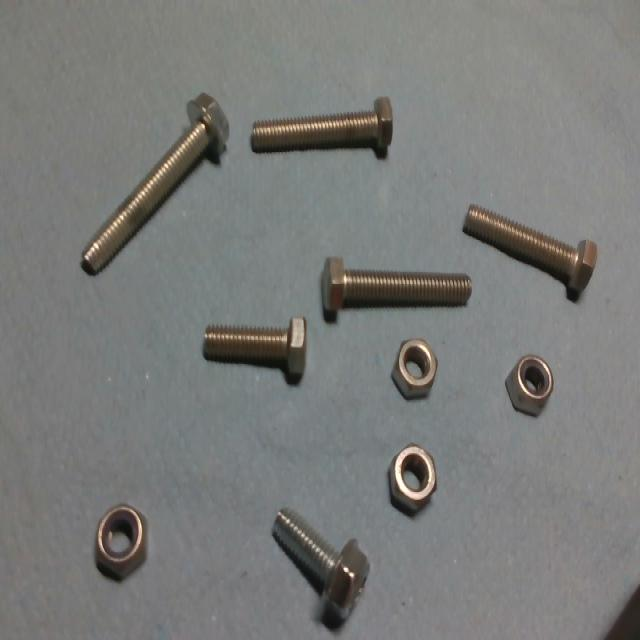Bolt: (78, 93, 230, 276), (462, 205, 596, 299), (272, 507, 368, 625), (320, 257, 473, 320), (249, 97, 393, 156), (200, 315, 308, 385)
Nut: (94, 504, 146, 580), (502, 349, 557, 419), (388, 445, 436, 517), (391, 339, 437, 399)
